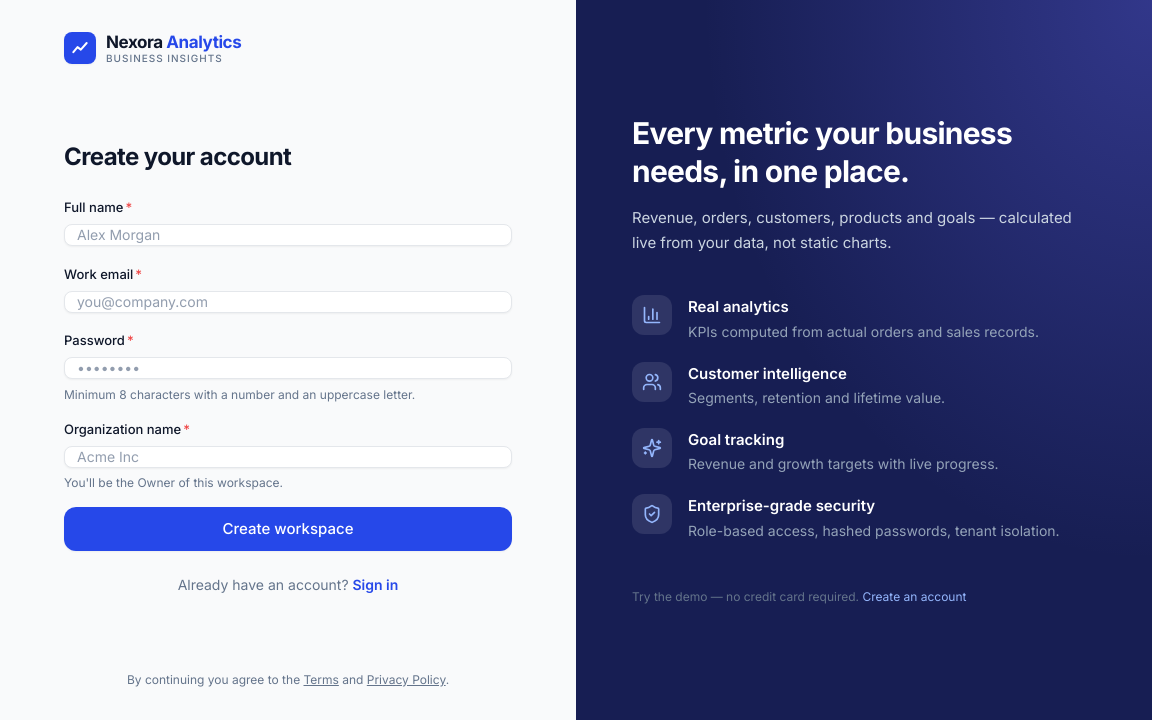
Test: RegisterPage form validation › shows field errors when submitting an empty form
What coordinates should you click on to do the following:
click the button "Create workspace"
I would click on:
 (288, 529)
Its box is [64,507,512,551].
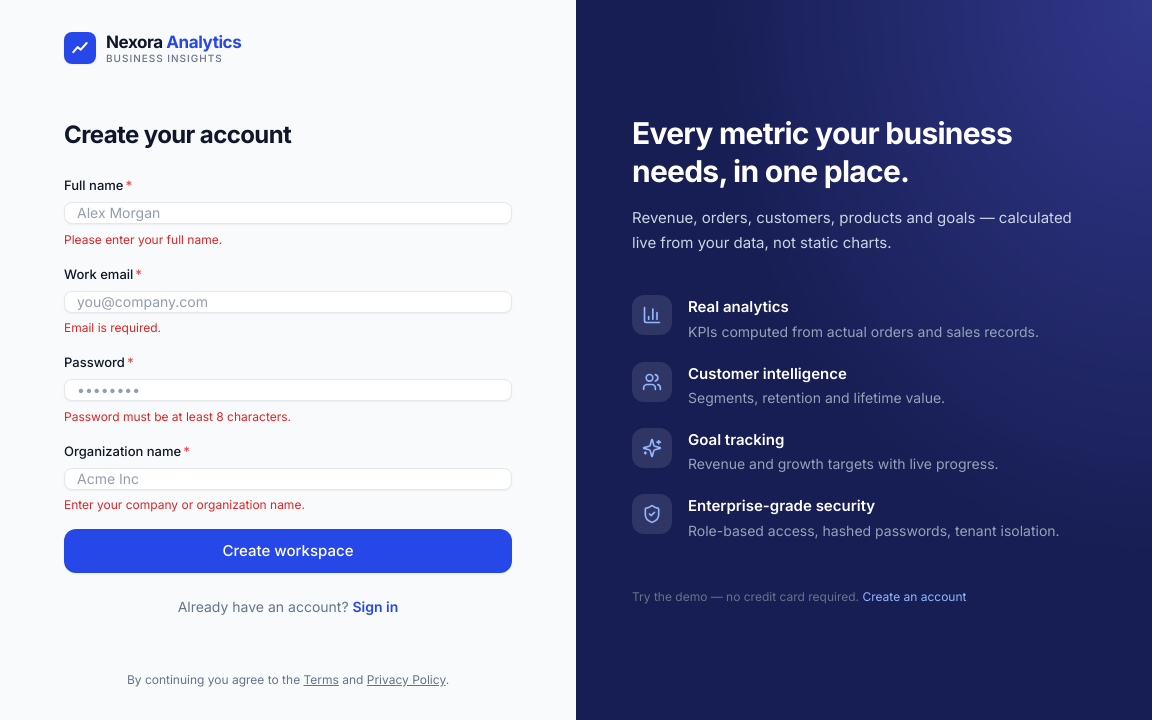
Expected: the text "Please enter your full name." is shown, [64,232,222,246]
Expected: the text "Email is required." is shown, [64,320,161,335]
